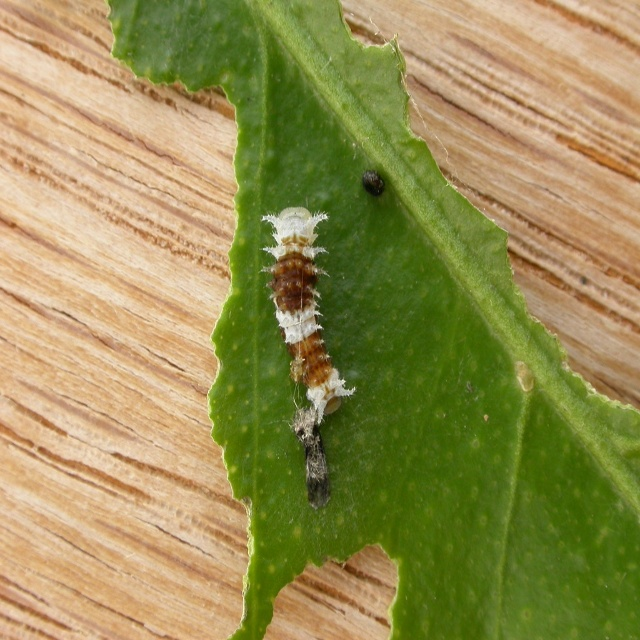Caterpillar: (258, 201, 355, 428)
